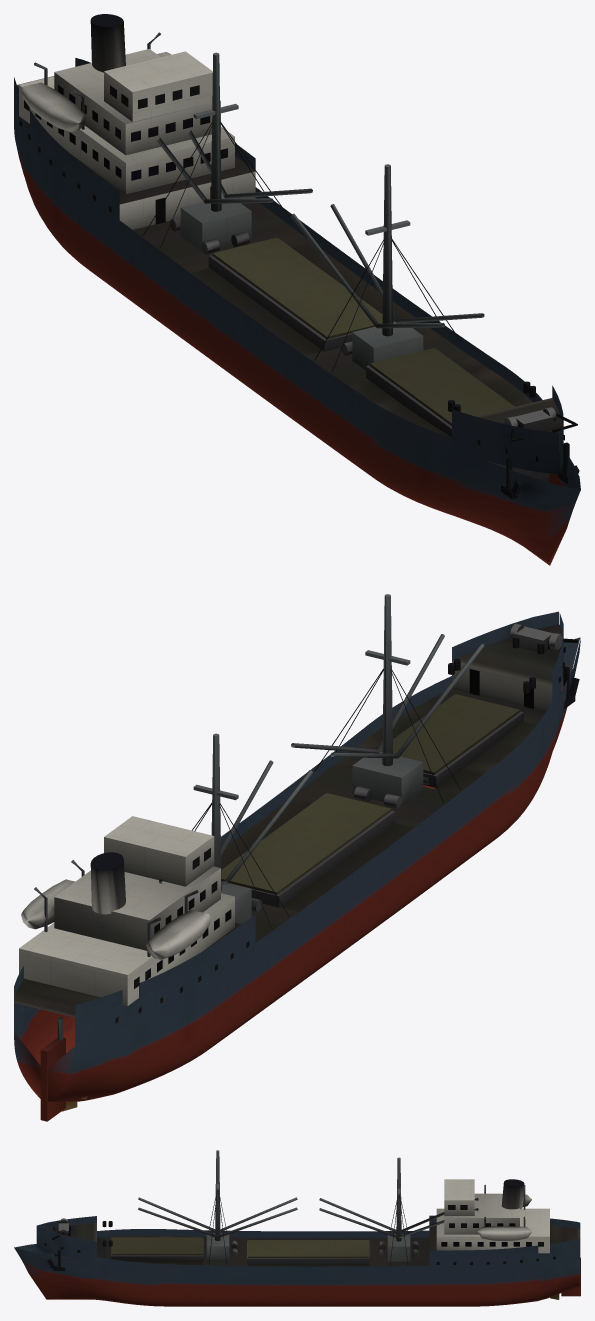
The model's file is model_built.glb.
3 views of the same model, one above another, from view 1: azimuth 30°, elevation 25°; view 2: azimuth 150°, elevation 25°; view 3: azimuth 270°, elevation 25° (orthographic). The views are drawn at different scales.
Visible parts, largest first — view 1: main; view 2: main; view 3: main.
Boxes of the visible parts, x1,y1,x2,y2 form: main: [14, 14, 580, 565]; main: [14, 594, 580, 1121]; main: [14, 1150, 580, 1306].
Bounding box in the file's own units: 12.62 × 21.73 × 75.1.
1 material, 1 textured.
